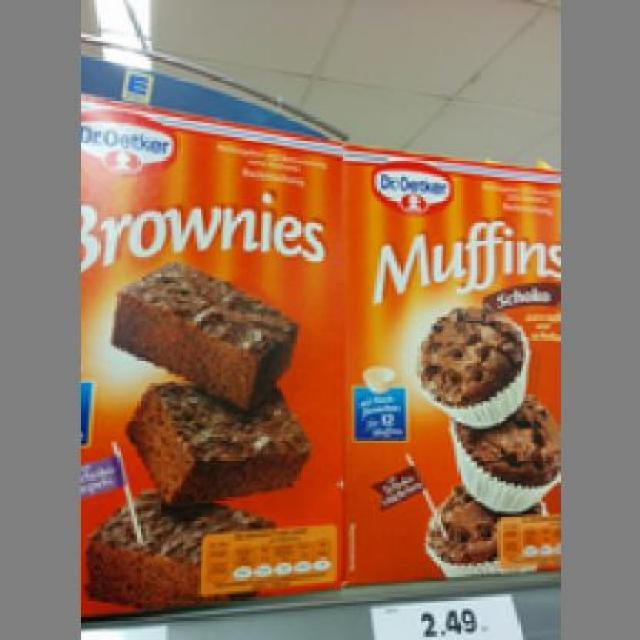Cake: (73, 91, 350, 588), (343, 137, 554, 586)
